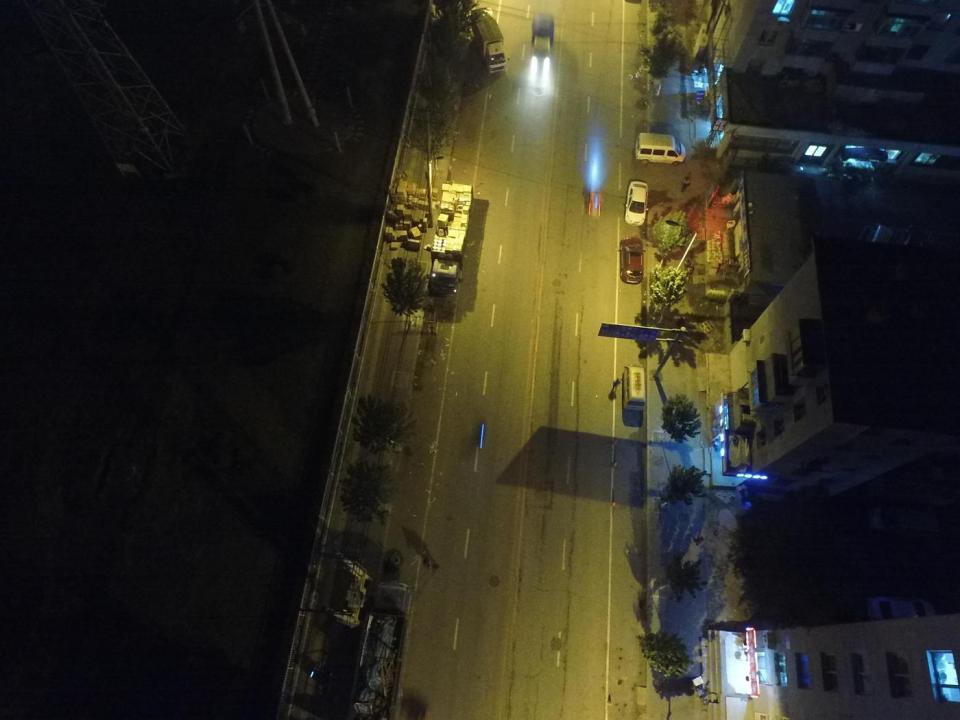car: (619, 237, 645, 285), (624, 181, 648, 225), (588, 190, 602, 214)
truck: (346, 582, 412, 720), (426, 184, 472, 296), (470, 6, 510, 74), (532, 13, 554, 68)
van: (636, 132, 685, 166), (622, 365, 646, 410)
